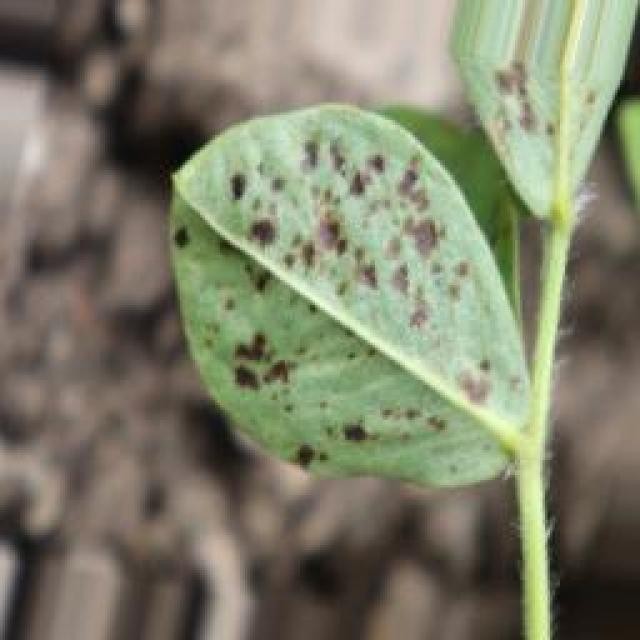Whitefly: (157, 12, 633, 563)
